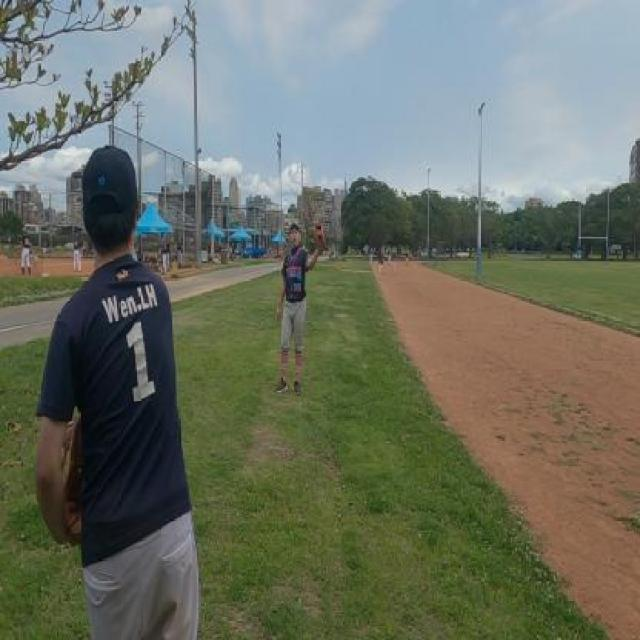baseball: (316, 229, 321, 236)
